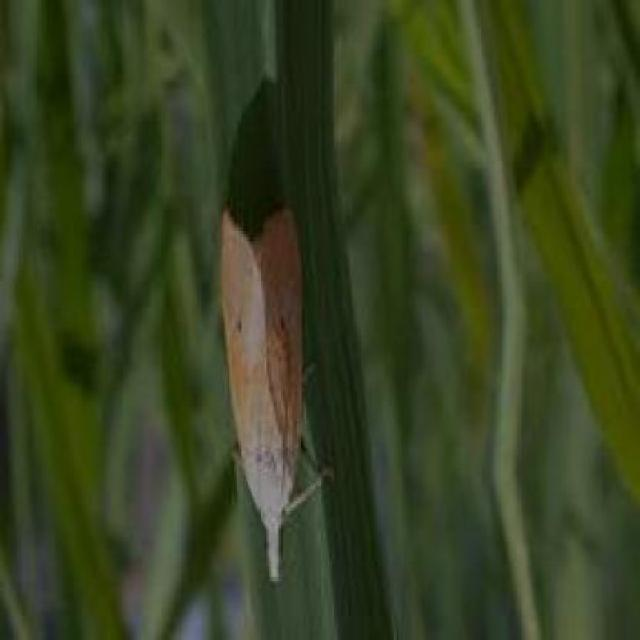stem-borer: (215, 204, 334, 582)
